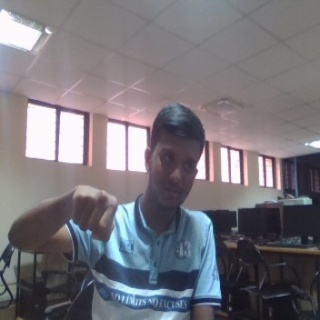Face: (144, 105, 204, 210)
Yes: (70, 179, 120, 242)
